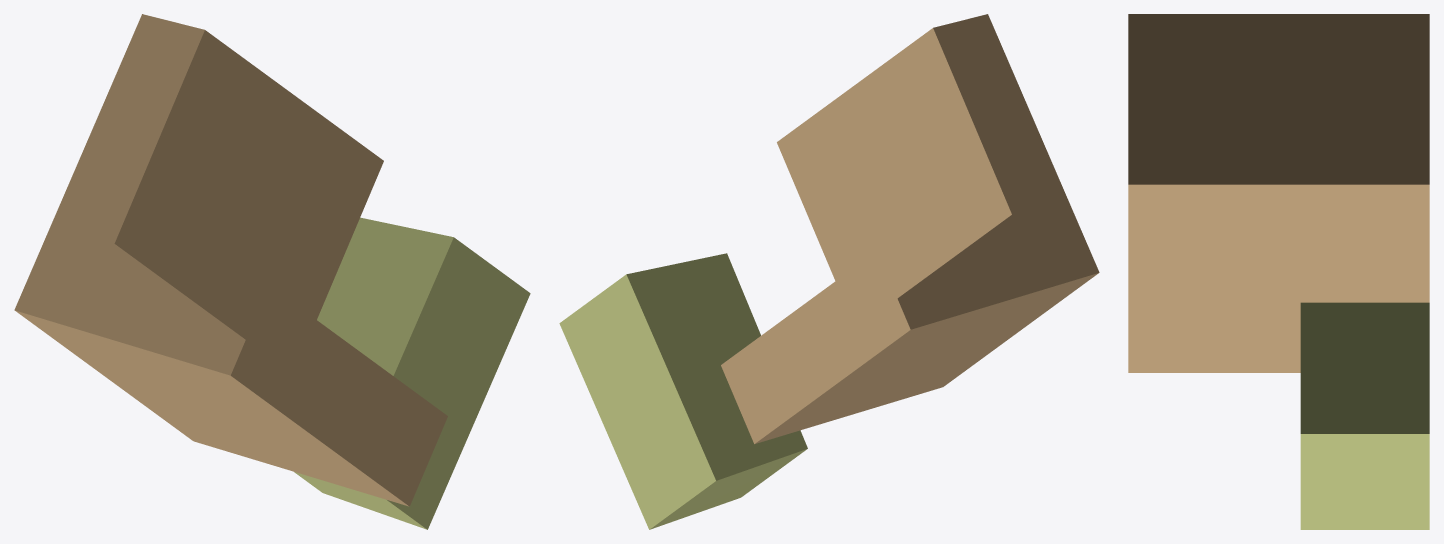
The picture shows the model from 3 angles, left to right: view 1: azimuth 30°, elevation 25°; view 2: azimuth 150°, elevation 25°; view 3: azimuth 270°, elevation 25°; orthographic projection. The views are drawn at different scales.
Parts seen in each view (by area): view 1: 0_0_1_3_1_2_1_1_0; view 2: 0_0_1_3_1_2_1_1_0; view 3: 0_0_1_3_1_2_1_1_0.
Part boxes in pixels (x1,y1,x2,y2): 0_0_1_3_1_2_1_1_0: (14, 14, 530, 529); 0_0_1_3_1_2_1_1_0: (559, 14, 1099, 529); 0_0_1_3_1_2_1_1_0: (1128, 14, 1429, 529).
Size of the model in its own units: 29.76 by 33.05 by 21.
